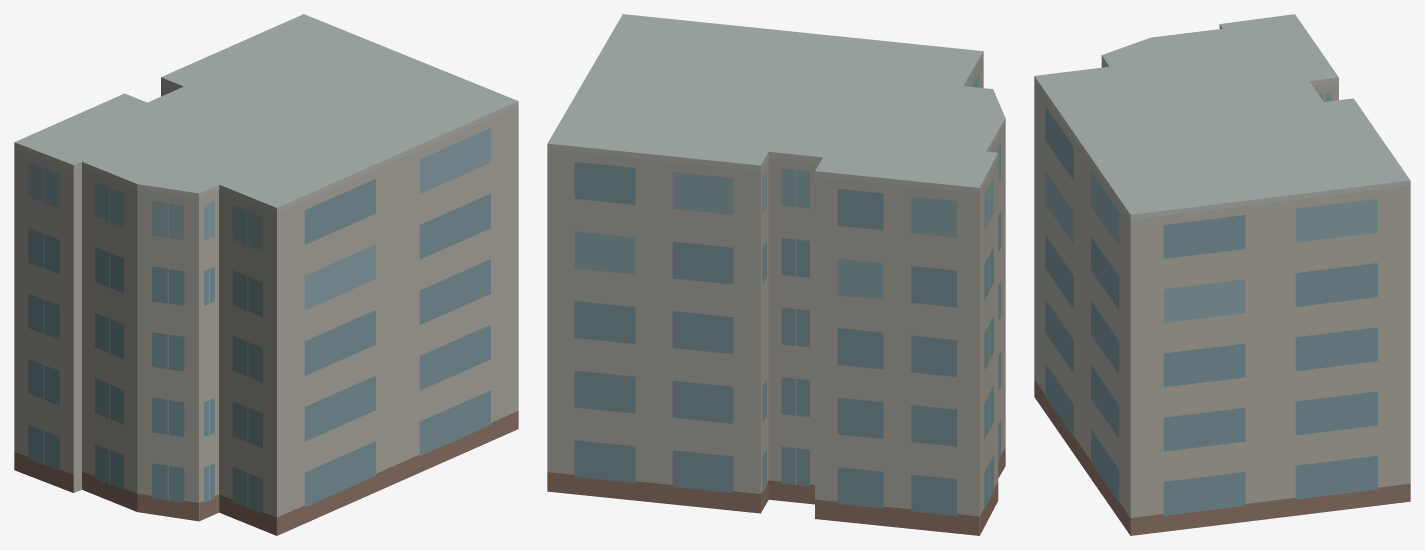
Rendered from survey-upis-32986698.glb.
3 views of the same model, side by side, from view 1: azimuth 30°, elevation 25°; view 2: azimuth 150°, elevation 25°; view 3: azimuth 270°, elevation 25° (orthographic). The views are drawn at different scales.
Parts seen in each view (by area): view 1: survey-upis-32986698.tmp; view 2: survey-upis-32986698.tmp; view 3: survey-upis-32986698.tmp.
Boxes of the visible parts, x1,y1,x2,y2 form: survey-upis-32986698.tmp: (14,14,518,535); survey-upis-32986698.tmp: (547,14,1005,535); survey-upis-32986698.tmp: (1034,14,1410,535).
Bounding box in the file's own units: 20.47 × 15.25 × 16.2.
